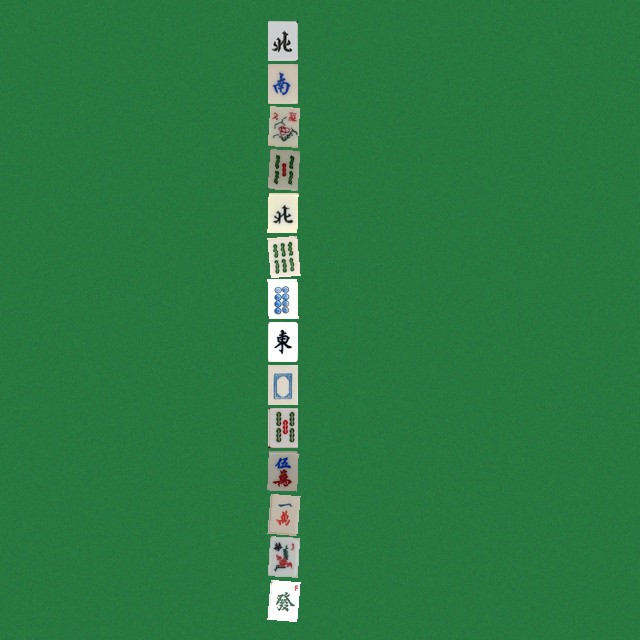tile: (267, 20, 297, 60), (267, 63, 297, 103), (267, 106, 297, 146), (267, 149, 297, 189), (267, 192, 297, 232), (267, 235, 297, 275), (267, 278, 297, 318), (267, 321, 297, 361), (267, 364, 297, 404), (267, 407, 297, 447), (267, 450, 297, 490), (267, 493, 297, 533), (267, 536, 297, 576), (267, 579, 297, 619)
